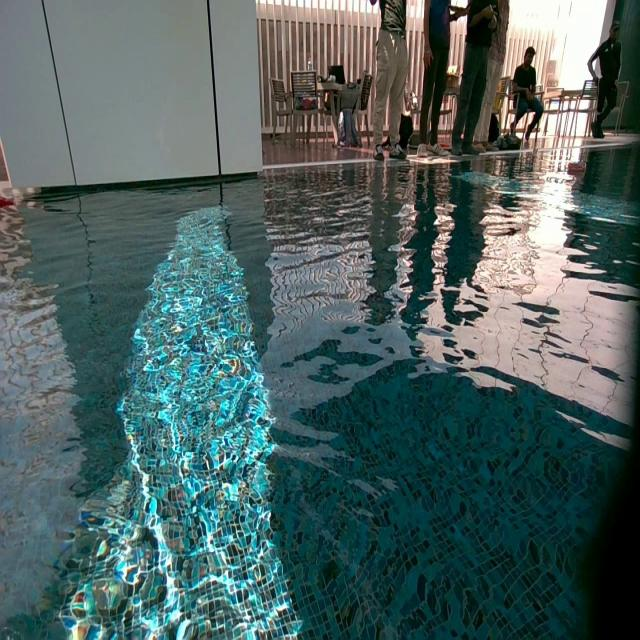Cans: (567, 162, 585, 176), (0, 196, 18, 206)
